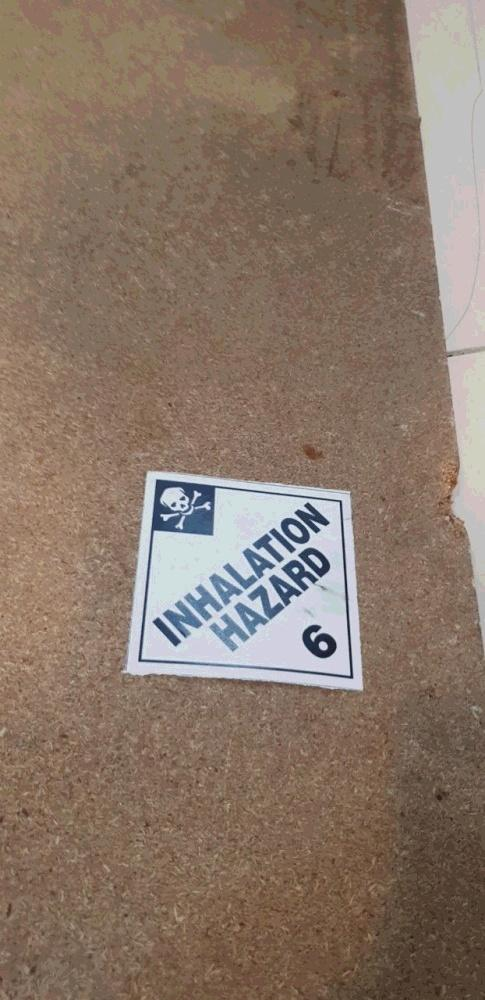poison: (123, 464, 367, 694)
